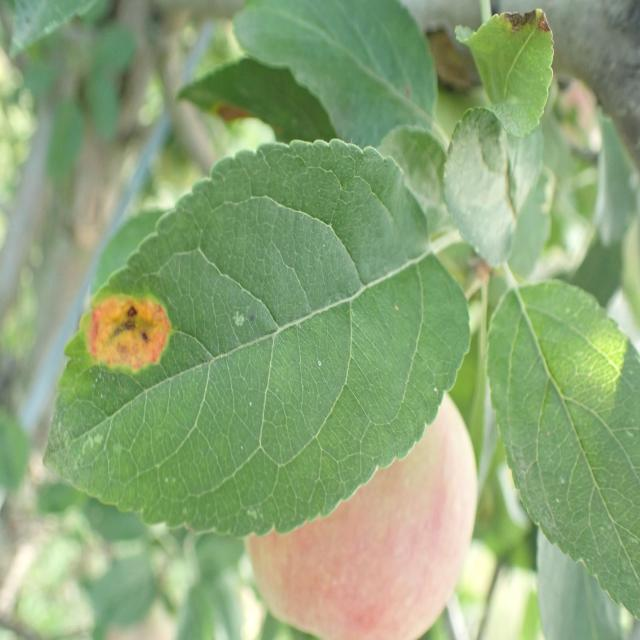Rust: (68, 266, 210, 381)
